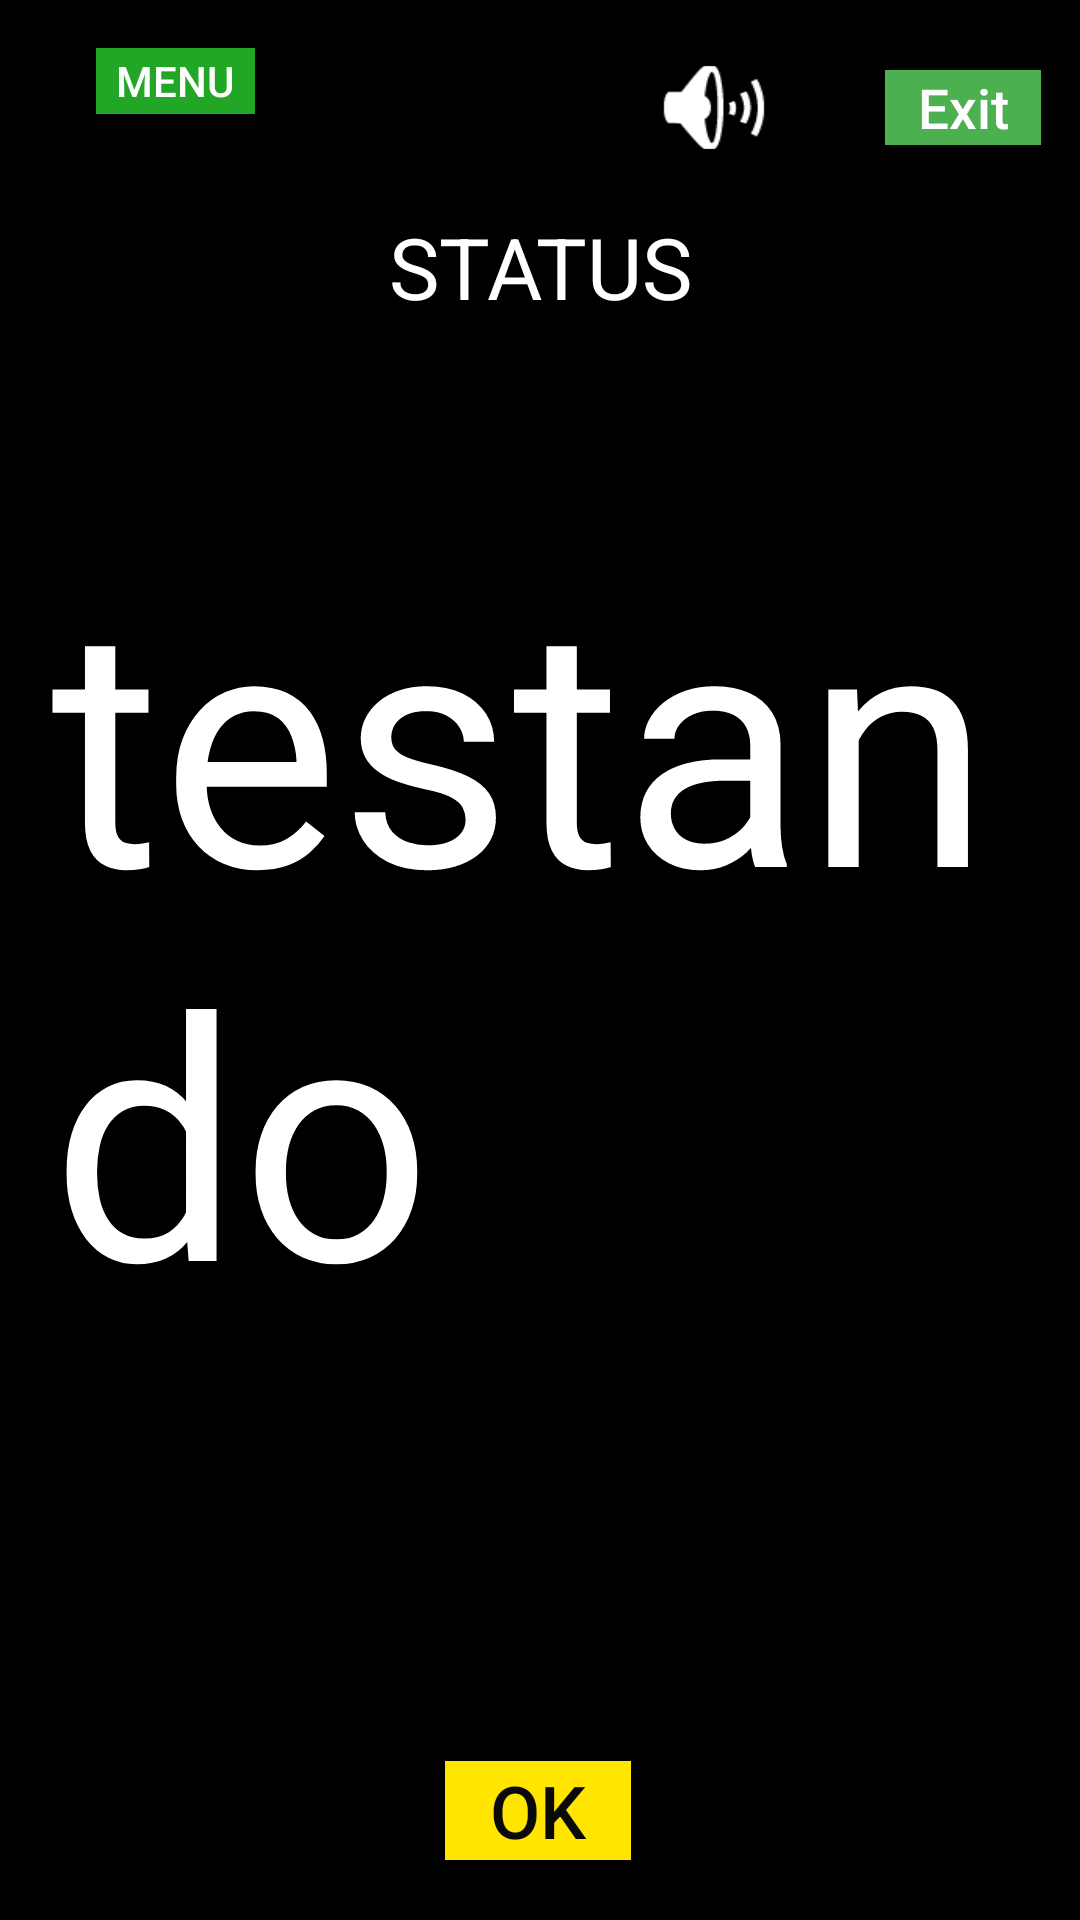

Icon bounding boxes for this 1080px x 1920px phone screenshot, format [x1=x1, y1=y1, x2=x2, y2=y2]:
lock silent mode off: [x1=663, y1=66, x2=765, y2=149]
